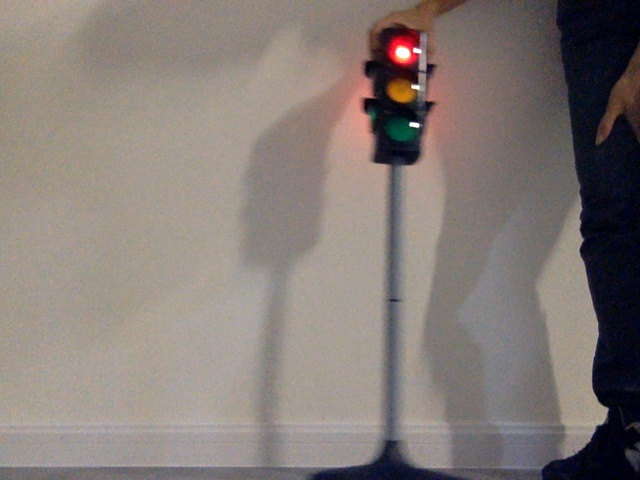red: (382, 38, 418, 143)
